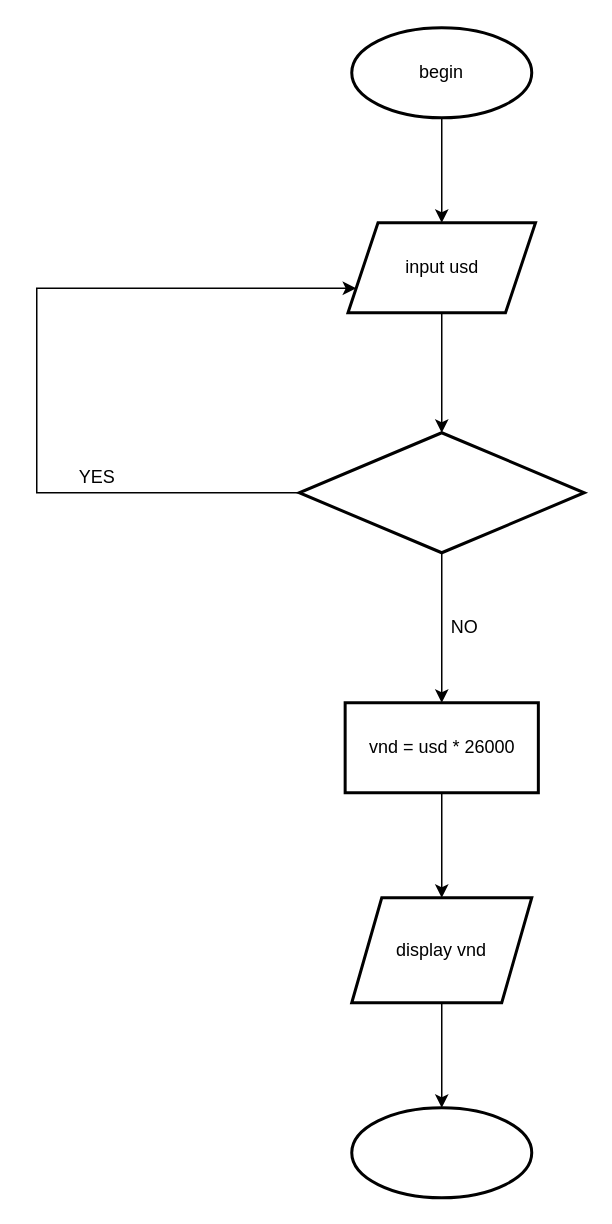
Some shapes in this 612 by 1224 pixel diagram are drawn without their labels. Here are the shapes that lost their labels. From the top down, the centre of each, then its label:
the point at 441,492: if(usd < 0)
the point at 441,1152: end
